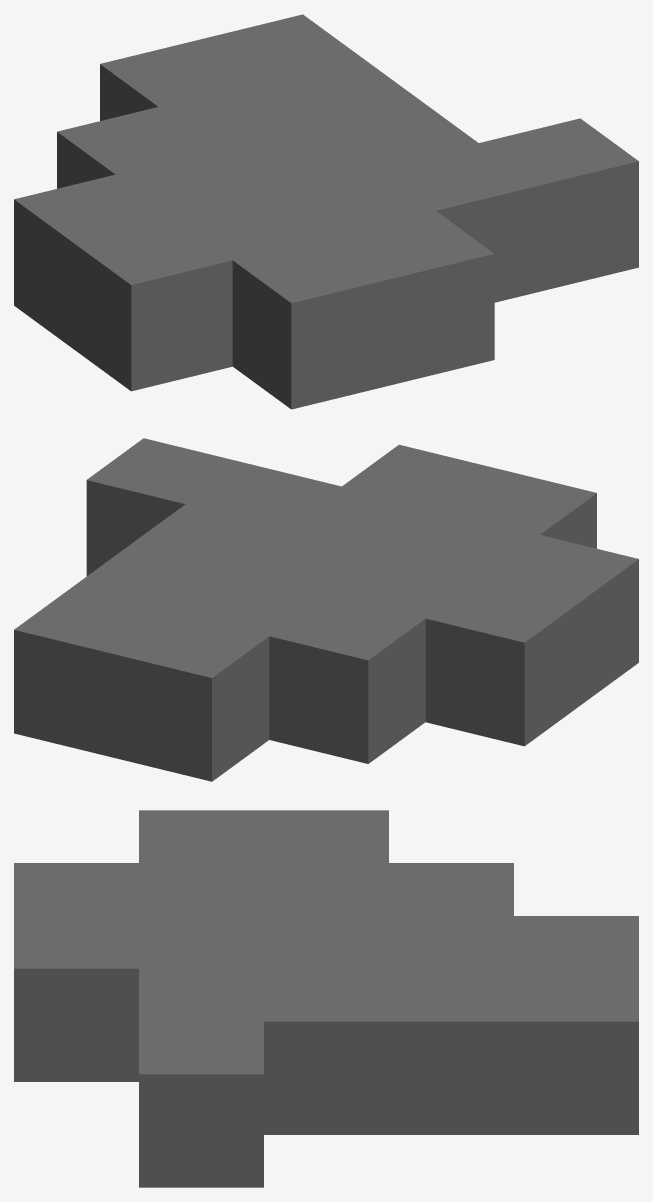
File: Cobblestone 3.obj
3 renders of one model, top to bottom at view 1: azimuth 30°, elevation 25°; view 2: azimuth 150°, elevation 25°; view 3: azimuth 270°, elevation 25°, orthographic. The views are drawn at different scales.
Size of the model in its own units: 0.5 by 0.1 by 0.5.
1 material, 1 textured.
